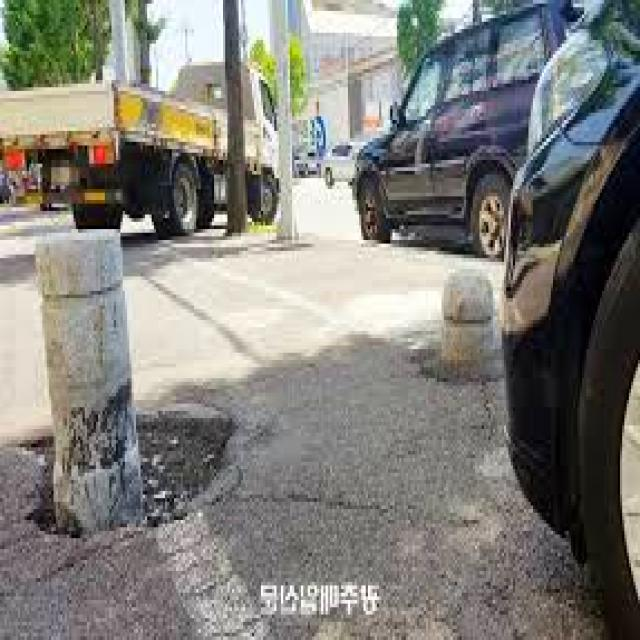bollard: (29, 204, 147, 580), (428, 262, 503, 367)
